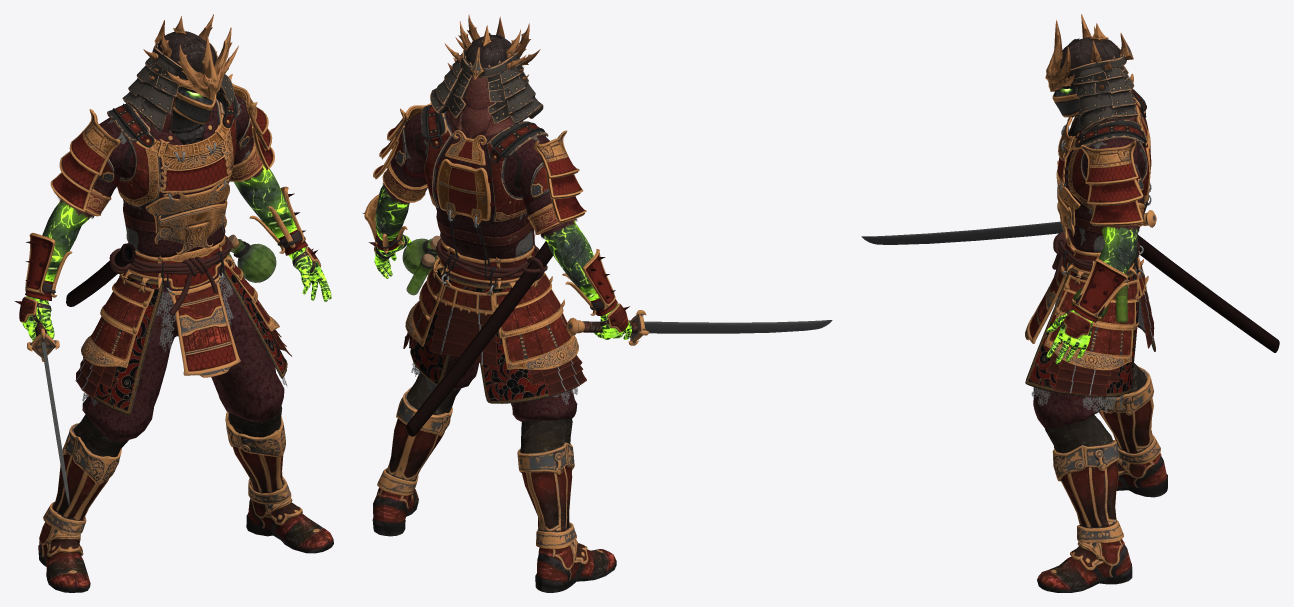
File: Shadowflame_Samurai.glb
3 renders of one model, left to right at view 1: azimuth 30°, elevation 25°; view 2: azimuth 150°, elevation 25°; view 3: azimuth 270°, elevation 25°, orthographic. The views are drawn at different scales.
Visible parts, largest first — view 1: Samurai_legs_mat_0, Samurai_top_mat_0, Samurai_details_mat_0, Samurai_body_mat_0, Samurai_armor_mat_0, Samurai_weapon_mat_0, katana_weapon_mat_0; view 2: Samurai_legs_mat_0, Samurai_top_mat_0, Samurai_details_mat_0, Samurai_body_mat_0, Samurai_armor_mat_0, Samurai_weapon_mat_0, katana_weapon_mat_0; view 3: Samurai_legs_mat_0, Samurai_top_mat_0, Samurai_details_mat_0, Samurai_body_mat_0, Samurai_weapon_mat_0, Samurai_armor_mat_0, katana_weapon_mat_0.
Part boxes in pixels (x1,y1,x2,y2): Samurai_legs_mat_0: (38, 259, 333, 592); Samurai_top_mat_0: (14, 14, 331, 340); Samurai_details_mat_0: (75, 235, 291, 397); Samurai_body_mat_0: (85, 94, 263, 289); Samurai_armor_mat_0: (107, 95, 239, 254); Samurai_weapon_mat_0: (57, 166, 287, 406); katana_weapon_mat_0: (25, 287, 69, 506); Samurai_legs_mat_0: (372, 260, 616, 592); Samurai_top_mat_0: (362, 14, 631, 339); Samurai_details_mat_0: (403, 217, 586, 395); Samurai_body_mat_0: (382, 111, 565, 288); Samurai_armor_mat_0: (420, 104, 548, 227); Samurai_weapon_mat_0: (382, 183, 577, 436); katana_weapon_mat_0: (567, 310, 832, 345); Samurai_legs_mat_0: (1025, 261, 1167, 592); Samurai_top_mat_0: (1045, 14, 1143, 364); Samurai_details_mat_0: (1025, 202, 1154, 395); Samurai_body_mat_0: (1062, 102, 1149, 274); Samurai_weapon_mat_0: (1031, 225, 1279, 414); Samurai_armor_mat_0: (1056, 89, 1151, 239); katana_weapon_mat_0: (861, 210, 1156, 244).
Bounding box in the file's own units: 79.07 × 113 × 83.04.
6 materials, 6 textured.
